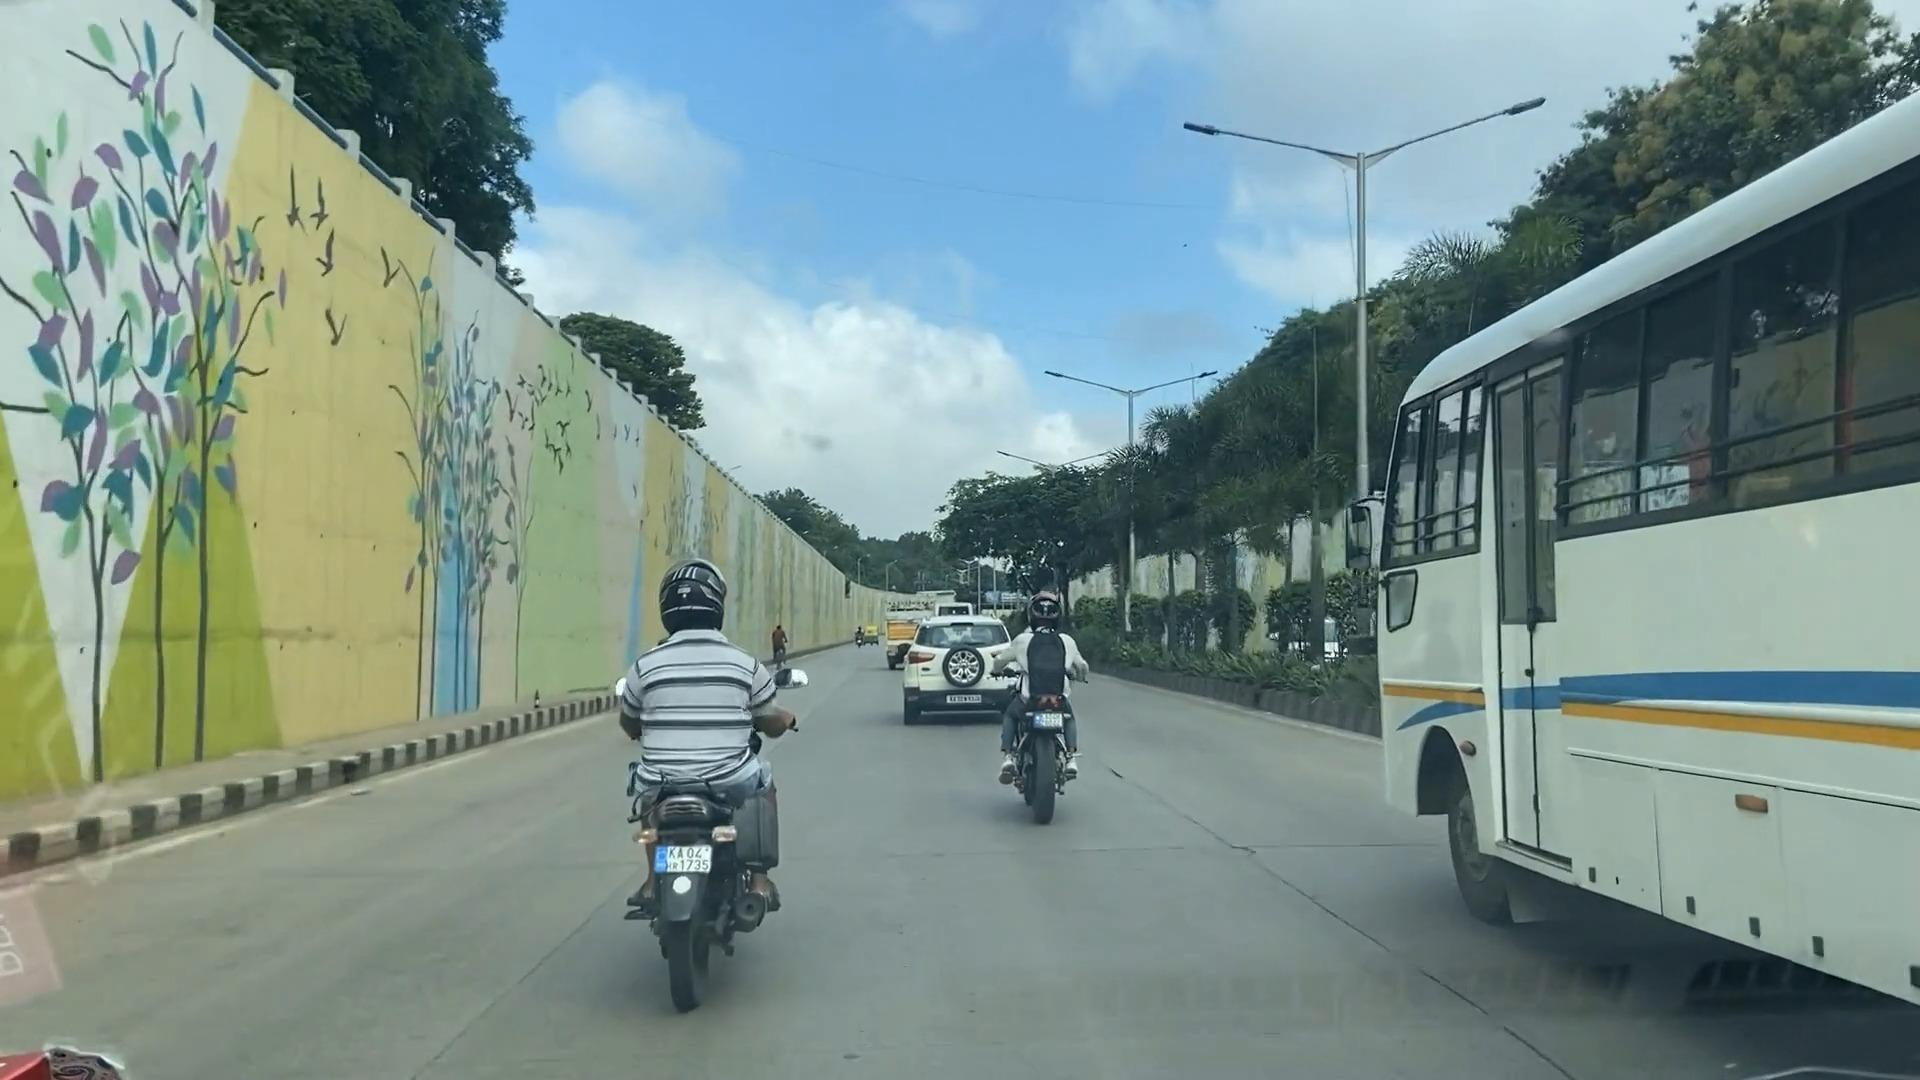LMV: (622, 560, 774, 984), (1006, 584, 1065, 815), (901, 622, 1023, 721)
